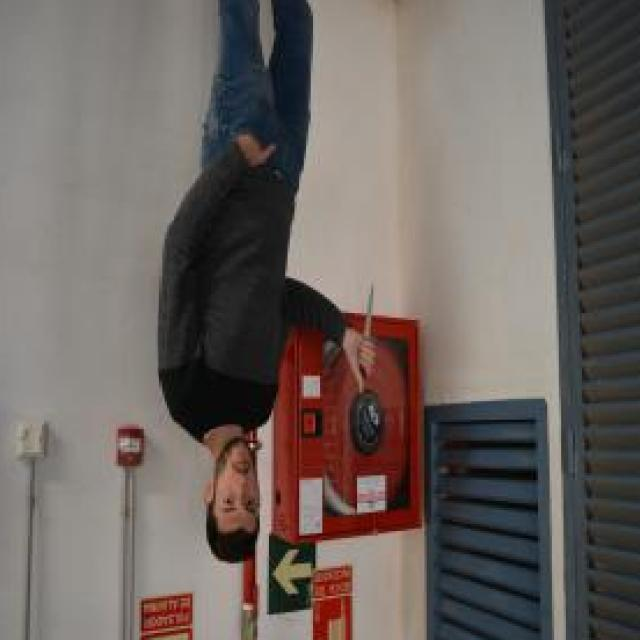knife: (357, 278, 378, 385)
